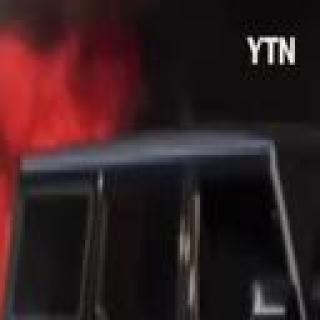fire: (0, 49, 118, 320)
